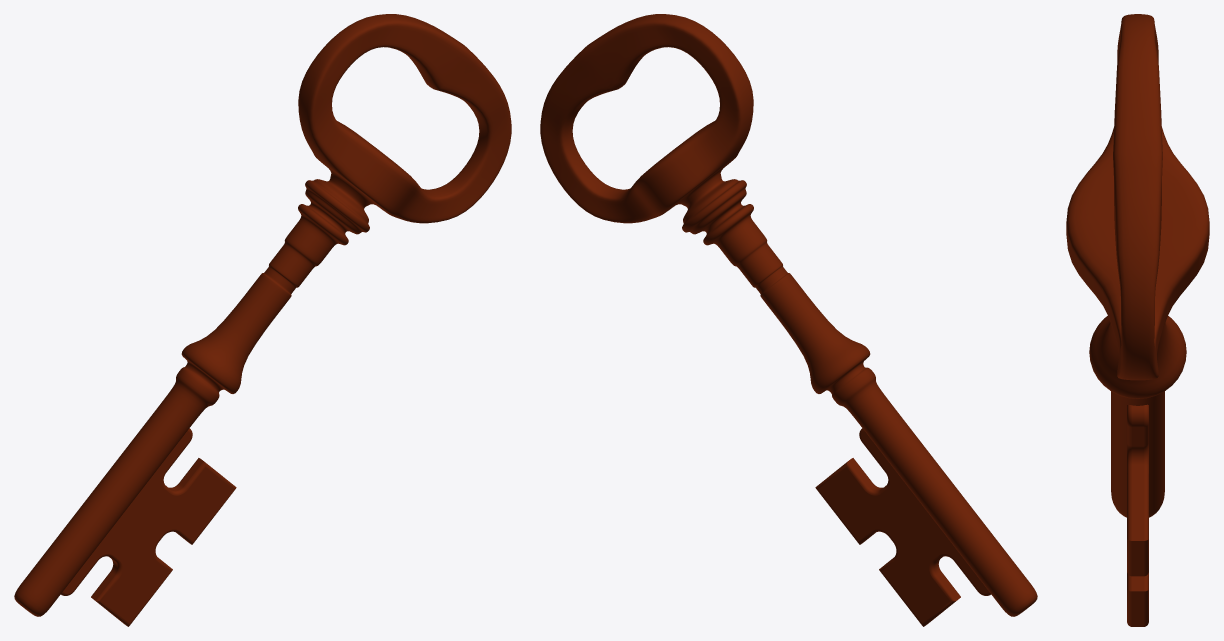
The model's file is key.fbx.
3 views of the same model, side by side, from view 1: azimuth 30°, elevation 25°; view 2: azimuth 150°, elevation 25°; view 3: azimuth 270°, elevation 25° (orthographic). The views are drawn at different scales.
Visible parts, largest first — view 1: Объект_Цилиндр; view 2: Объект_Цилиндр; view 3: Объект_Цилиндр.
Boxes of the visible parts, x1,y1,x2,y2 form: Объект_Цилиндр: (14,14,511,626); Объект_Цилиндр: (540,14,1037,626); Объект_Цилиндр: (1066,14,1209,626).
Size of the model in its own units: 1454 by 1545 by 258.
